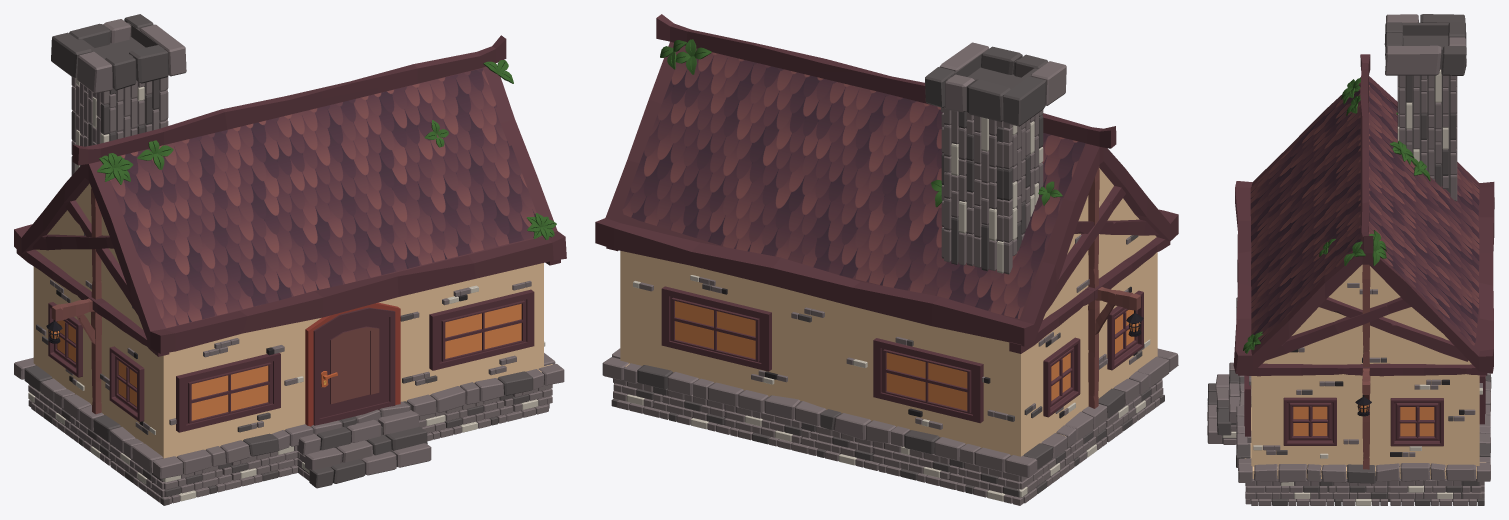
File: casa-pedra2.fbx
3 renders of one model, left to right at view 1: azimuth 30°, elevation 25°; view 2: azimuth 150°, elevation 25°; view 3: azimuth 270°, elevation 25°, orthographic. The views are drawn at different scales.
Parts seen in each view (by area): view 1: CasaPedra2_LOD0, PortaCasaPedra2; view 2: CasaPedra2_LOD0; view 3: CasaPedra2_LOD0.
Part boxes in pixels (x1,y1,x2,y2): CasaPedra2_LOD0: (14, 14, 566, 505); PortaCasaPedra2: (313, 307, 395, 425); CasaPedra2_LOD0: (595, 14, 1178, 505); CasaPedra2_LOD0: (1207, 14, 1494, 505).
Size of what is drawn, in the model's own units: 7.36 by 5.47 by 4.31.
